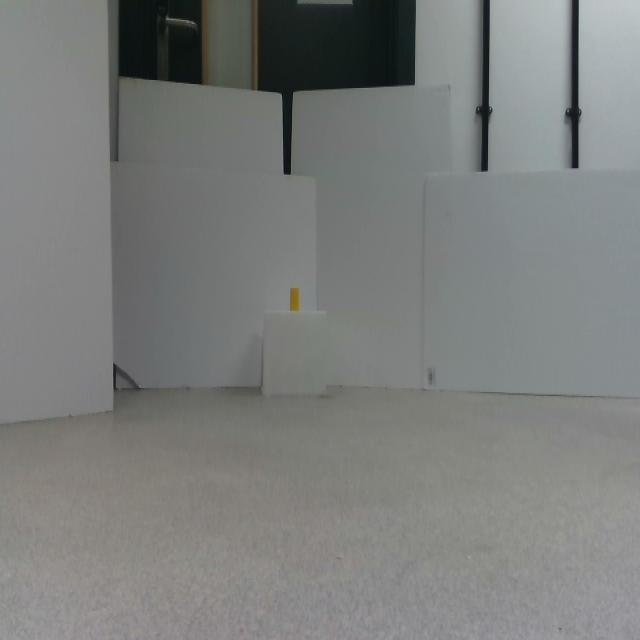yellow_cylinder: (290, 288, 300, 312)
